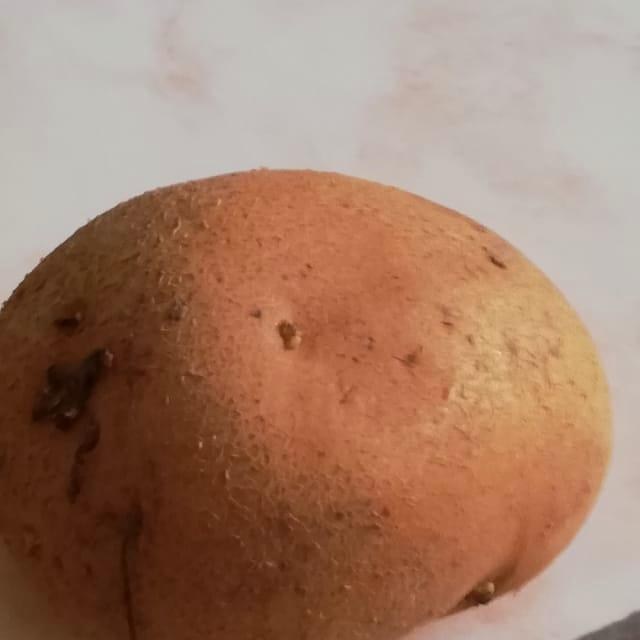potato: (0, 149, 628, 640)
